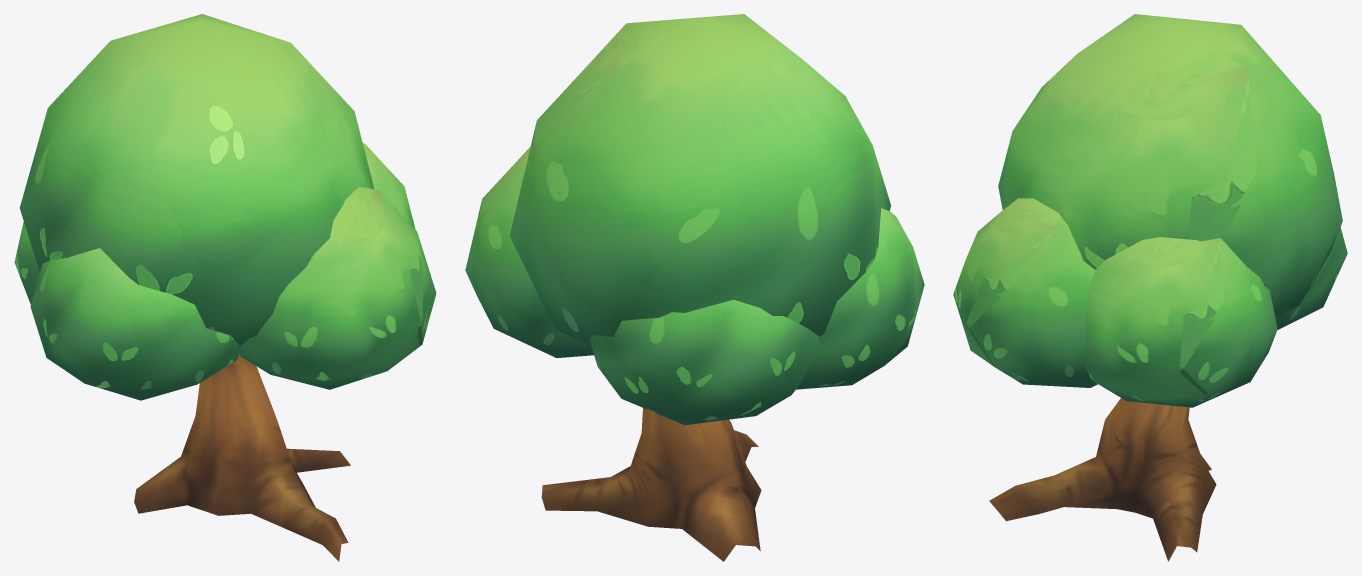
The model's file is tree_2.gltf.
3 views of the same model, side by side, from view 1: azimuth 30°, elevation 25°; view 2: azimuth 150°, elevation 25°; view 3: azimuth 270°, elevation 25° (orthographic). The views are drawn at different scales.
Visible parts, largest first — view 1: Tree2; view 2: Tree2; view 3: Tree2.
Part boxes in pixels (x1,y1,x2,y2): Tree2: (14, 14, 436, 561); Tree2: (465, 14, 924, 561); Tree2: (953, 14, 1347, 561).
Size of what is drawn, in the model's own units: 2.69 by 3.24 by 2.47.
Materials: 2 (2 with a texture image).
